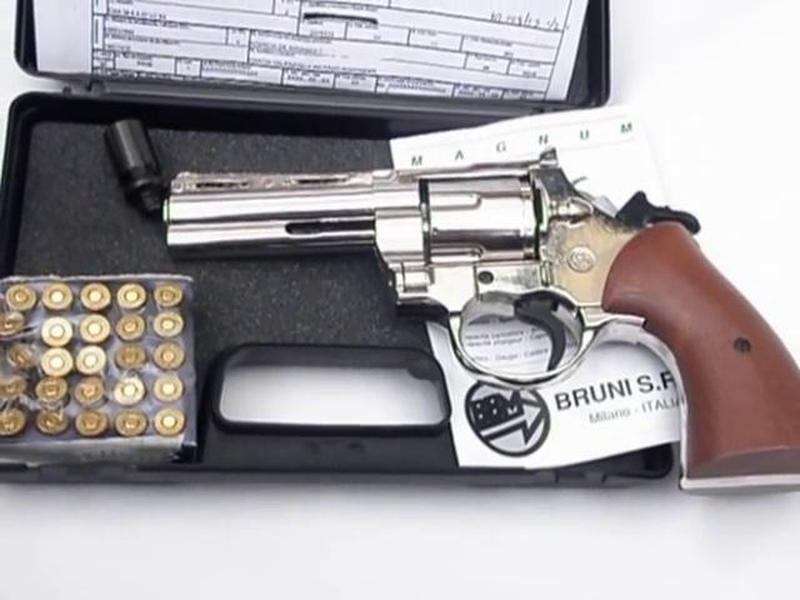Revolver: (153, 118, 693, 380)
